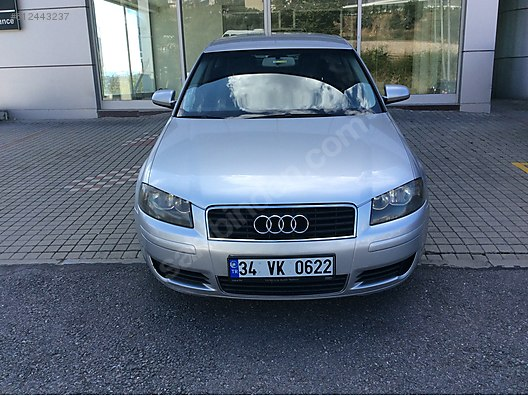audi: (247, 212, 311, 237)
